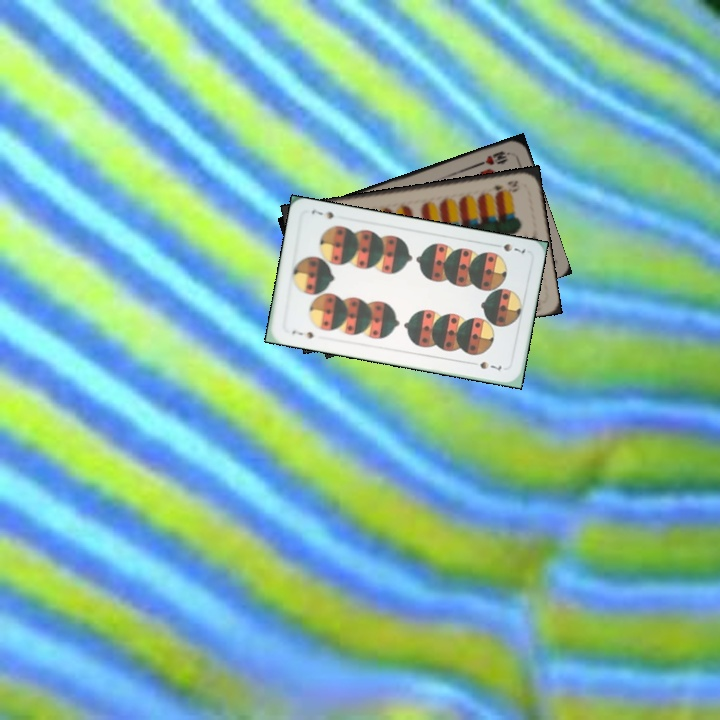E10: (484, 177, 522, 196)
H10: (474, 147, 513, 168)
S7: (499, 239, 528, 256), (287, 326, 316, 341)
